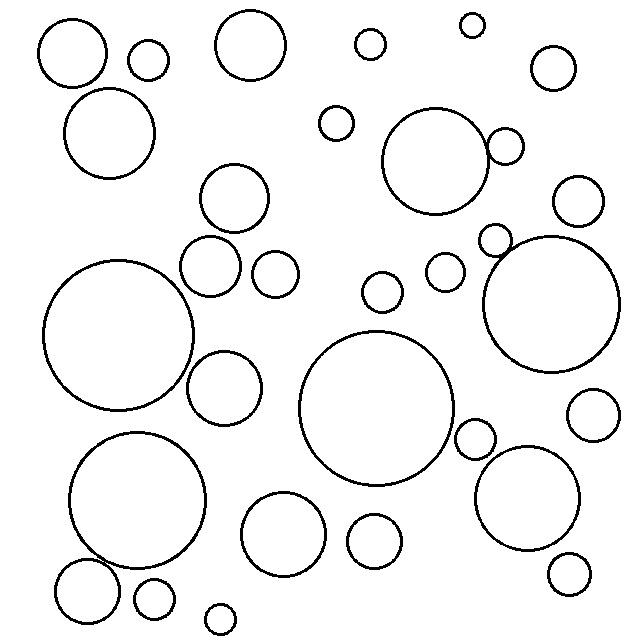circle: (296, 328, 458, 489), (41, 254, 197, 414), (67, 428, 211, 571), (480, 233, 624, 375), (380, 103, 491, 219), (472, 442, 584, 553), (61, 84, 159, 182), (238, 487, 331, 578), (187, 347, 265, 429), (213, 6, 289, 84), (33, 15, 111, 90), (198, 161, 274, 236), (51, 556, 124, 626), (178, 233, 245, 299), (344, 511, 404, 571), (563, 386, 623, 445), (550, 171, 607, 230), (250, 249, 302, 300), (528, 42, 579, 93), (358, 267, 409, 316), (545, 550, 595, 599), (422, 249, 470, 295), (454, 413, 499, 462), (132, 575, 177, 621), (127, 38, 172, 82), (315, 101, 358, 146), (485, 126, 527, 168), (351, 23, 391, 65), (201, 599, 241, 638), (477, 221, 515, 259), (458, 9, 489, 40)
